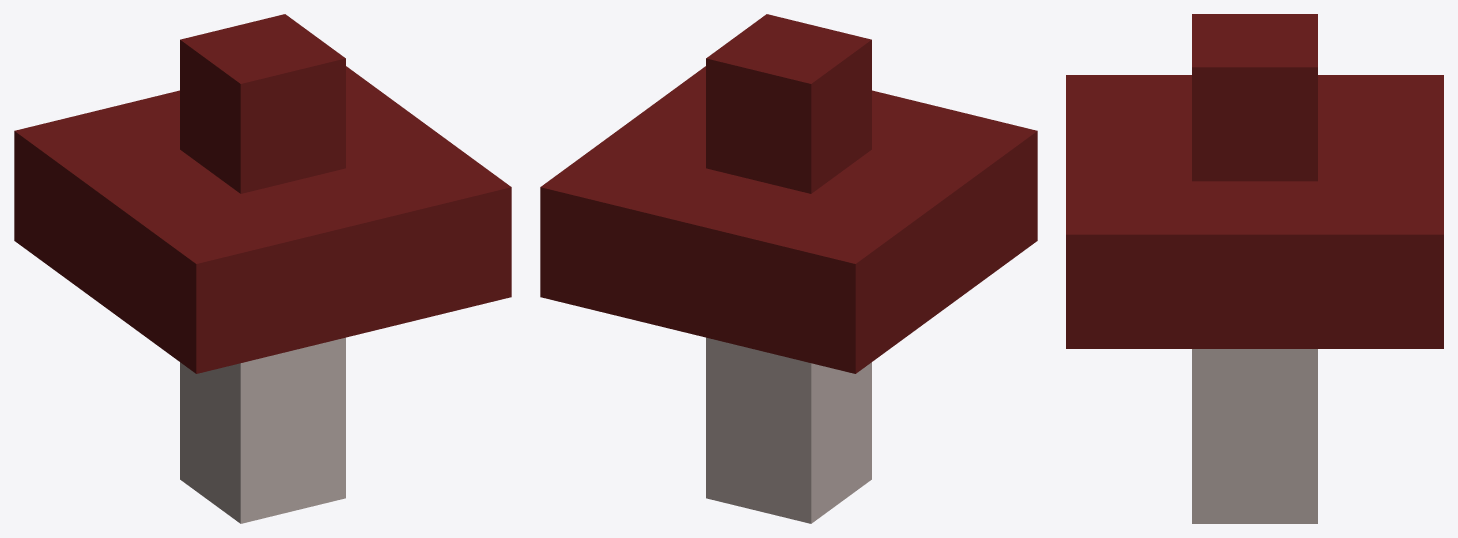
Rendered from church-56-mushroom.obj.
3 views of the same model, side by side, from view 1: azimuth 30°, elevation 25°; view 2: azimuth 150°, elevation 25°; view 3: azimuth 270°, elevation 25° (orthographic). The views are drawn at different scales.
Parts seen in each view (by area): view 1: mushroom; view 2: mushroom; view 3: mushroom.
Part boxes in pixels (x1,y1,x2,y2): mushroom: (14, 14, 511, 523); mushroom: (540, 14, 1037, 523); mushroom: (1066, 14, 1443, 523).
Bounding box in the file's own units: 0.3 × 0.4 × 0.3.
1 material, 1 textured.
